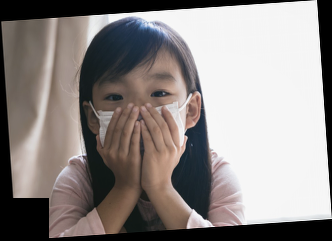with_mask: (94, 72, 193, 180)
